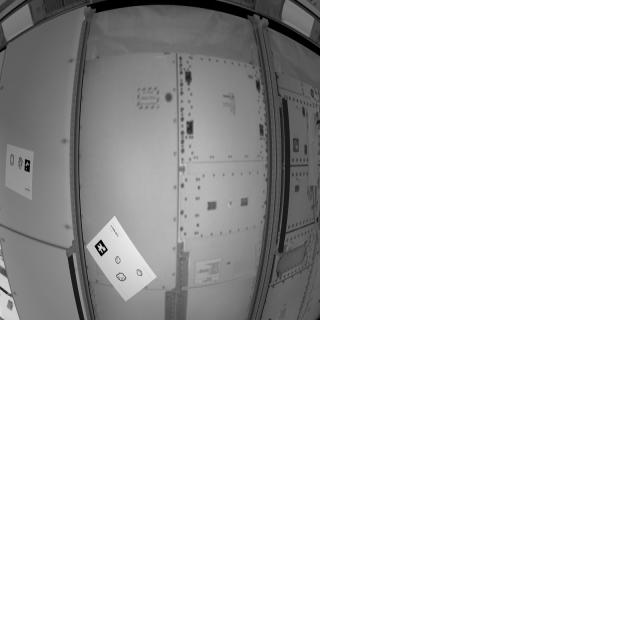coral: (17, 157, 26, 173)
emerald: (10, 155, 16, 170)
shell: (117, 273, 129, 283), (114, 255, 124, 266), (137, 269, 145, 279)
